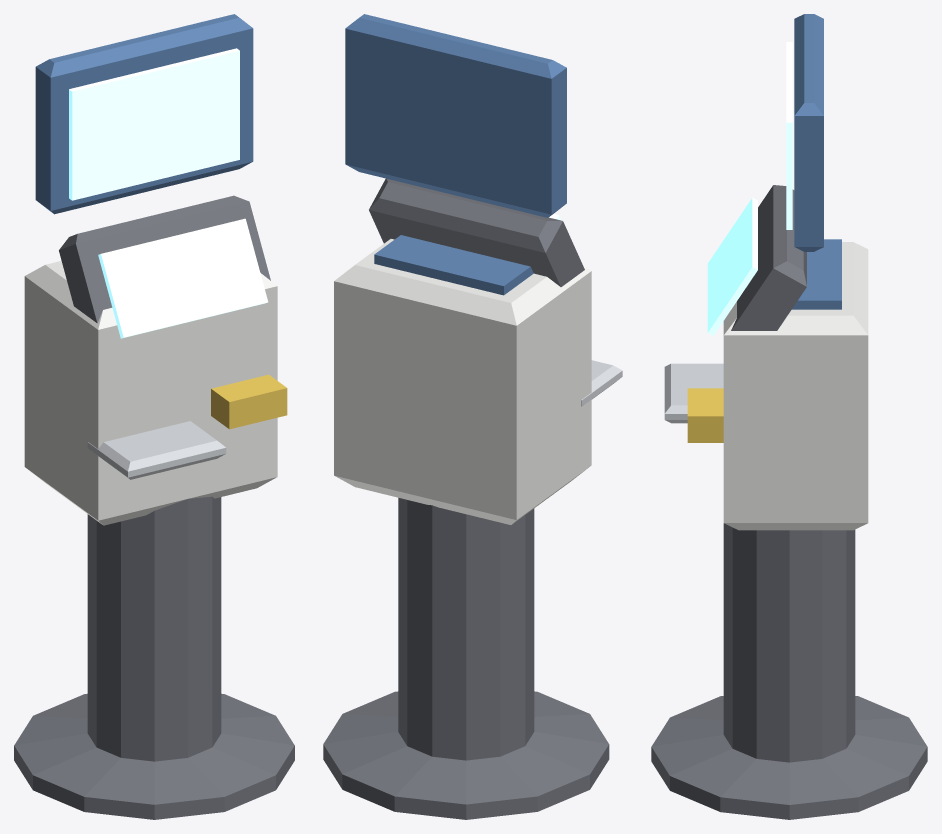
File: airport-terminal-and-ground-operations-self-service-ki-70dc7b17.glb
3 views of the same model, side by side, from view 1: azimuth 30°, elevation 25°; view 2: azimuth 150°, elevation 25°; view 3: azimuth 270°, elevation 25° (orthographic). The views are drawn at different scales.
Parts seen in each view (by area): view 1: self-service-kiosk; view 2: self-service-kiosk; view 3: self-service-kiosk.
Part boxes in pixels (x1=…): self-service-kiosk: x1=14, y1=14, x2=294, y2=819; self-service-kiosk: x1=323, y1=14, x2=622, y2=819; self-service-kiosk: x1=651, y1=14, x2=927, y2=819.
Bounding box in the file's own units: 0.84 × 2.36 × 0.84.
